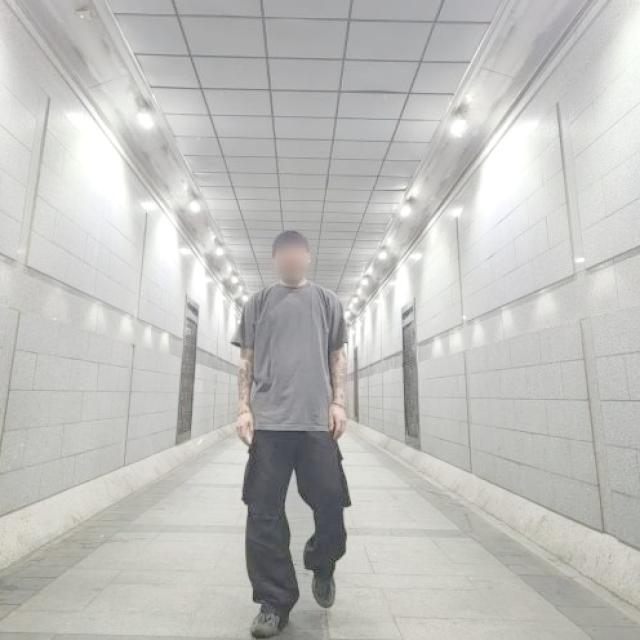cottonpants: (240, 432, 348, 612)
shortsleeve: (232, 286, 348, 434)
